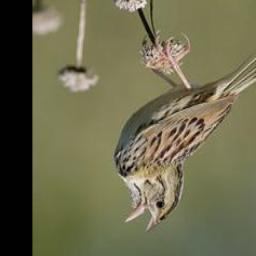Sparrow: (111, 25, 256, 237)
